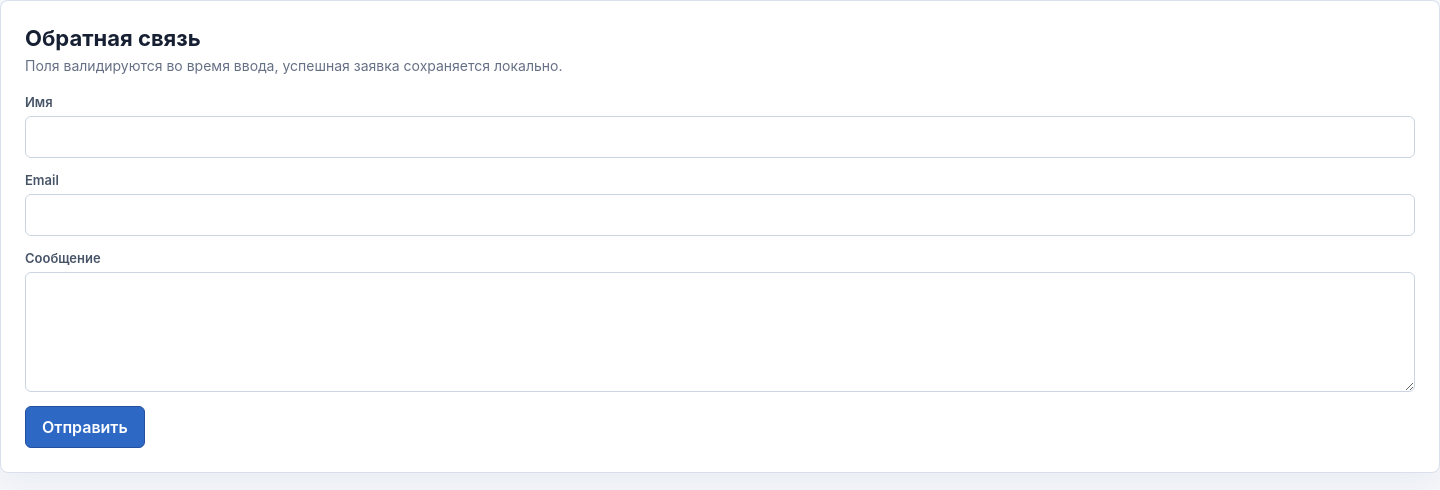
Test: FeedbackForm › submits valid feedback and saves it locally
Type "Konstantin" into the field labelled "Имя". click: (720, 137)
box: x1=25 y1=116 x2=1415 y2=158
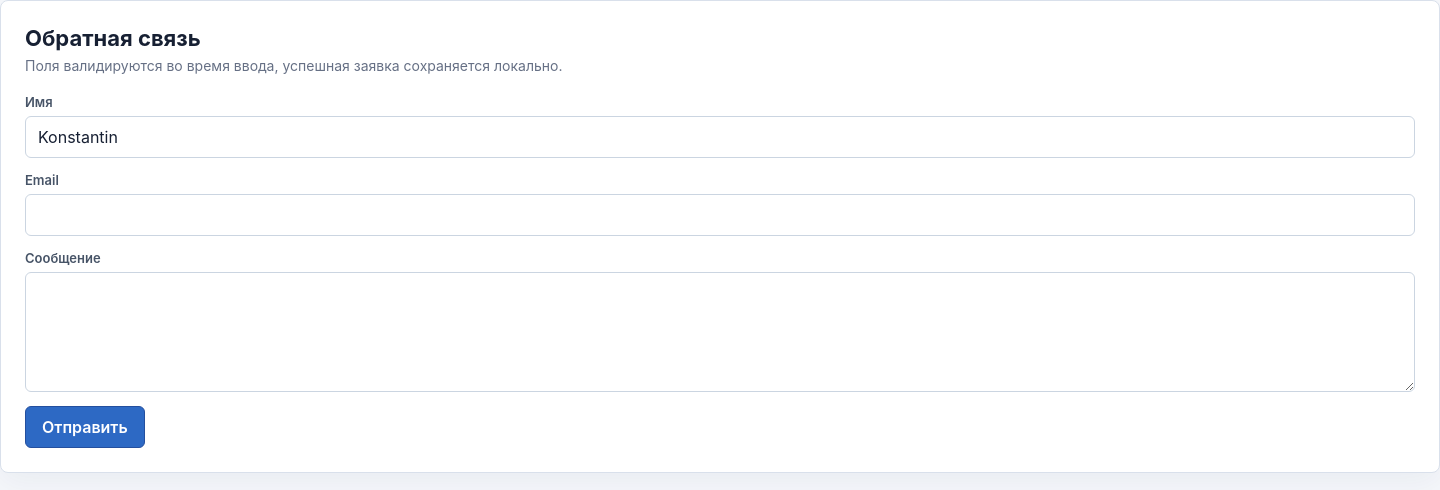
Type "test@example.com" into the field labelled "Email". click: (720, 215)
box: x1=25 y1=194 x2=1415 y2=236
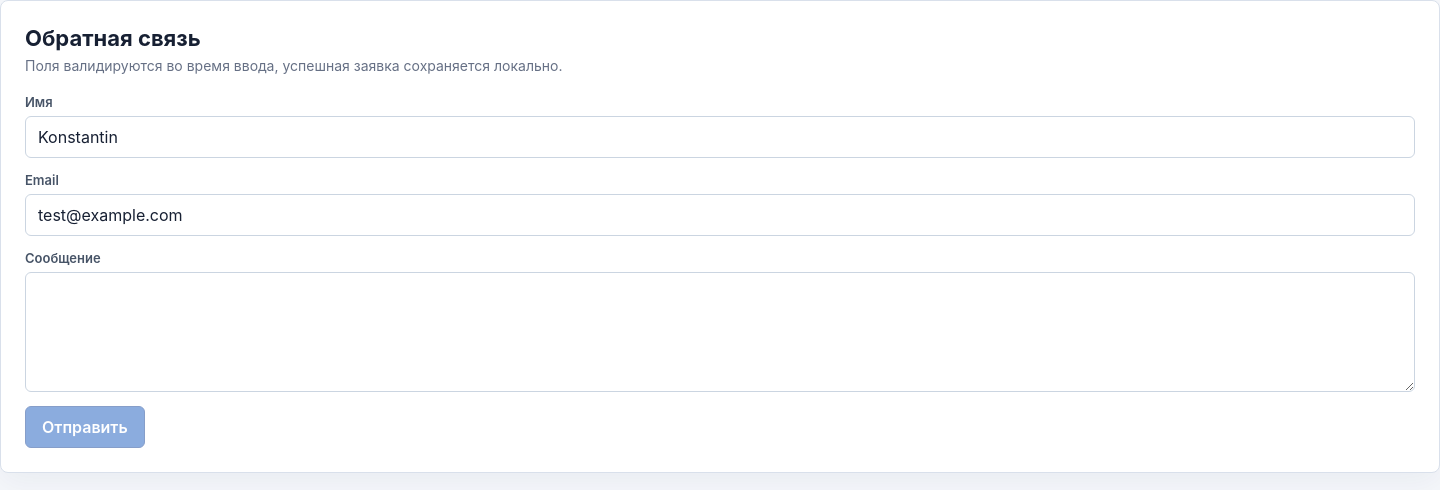
Type "Message long enough" into the text box labelled "Сообщение". click: (720, 332)
box: x1=25 y1=272 x2=1415 y2=392
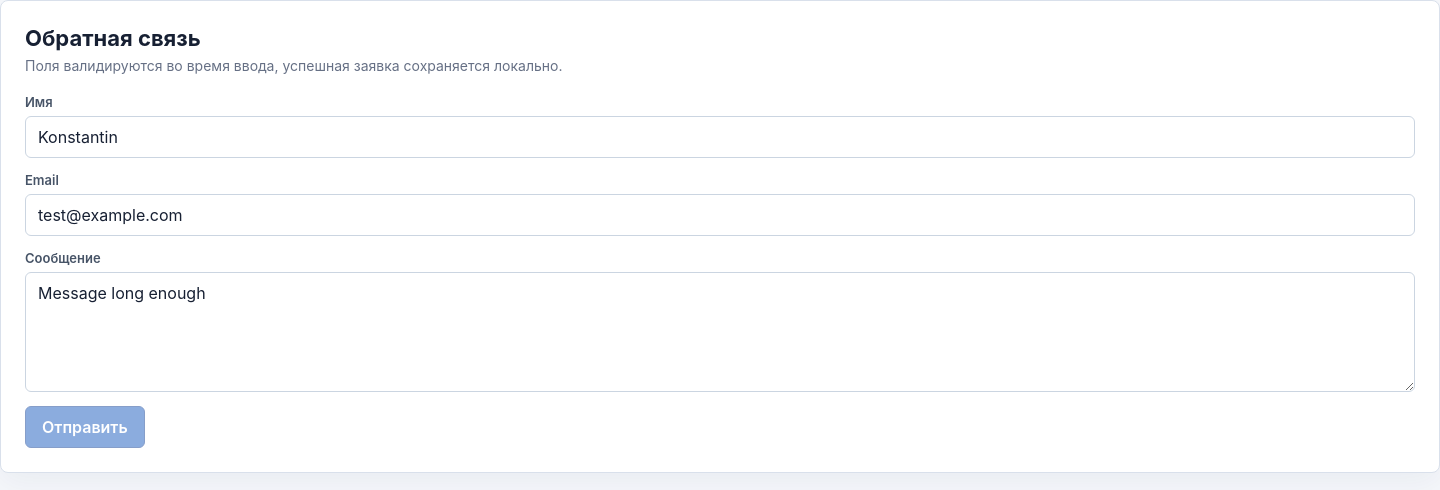
Submit the form
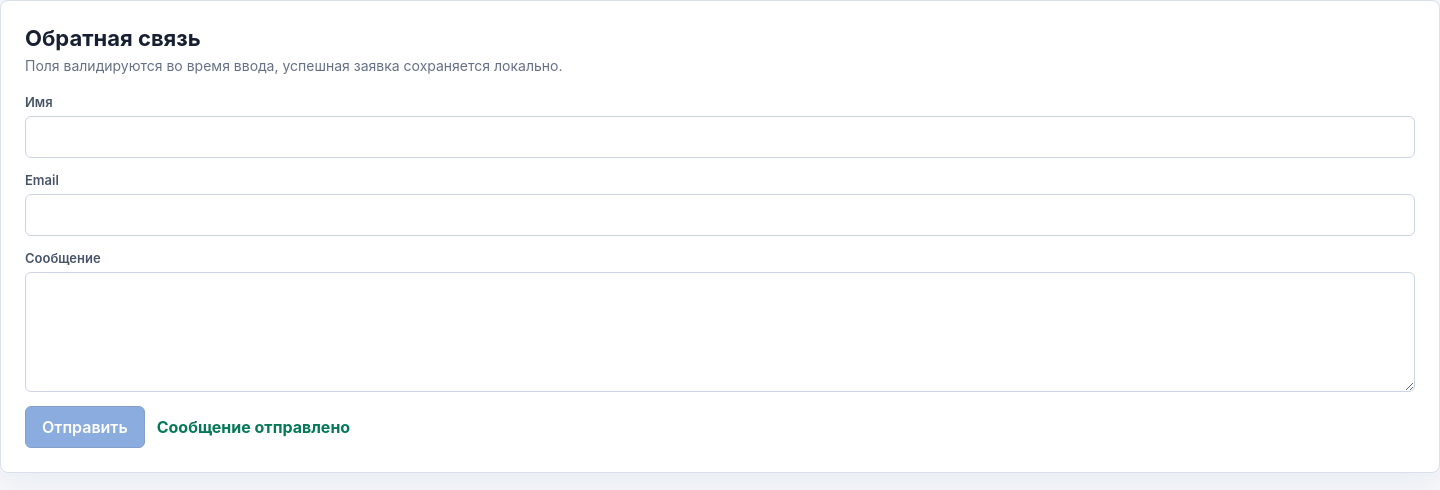
Check: the text "Сообщение отправлено" is shown, box x1=157 y1=417 x2=350 y2=437
